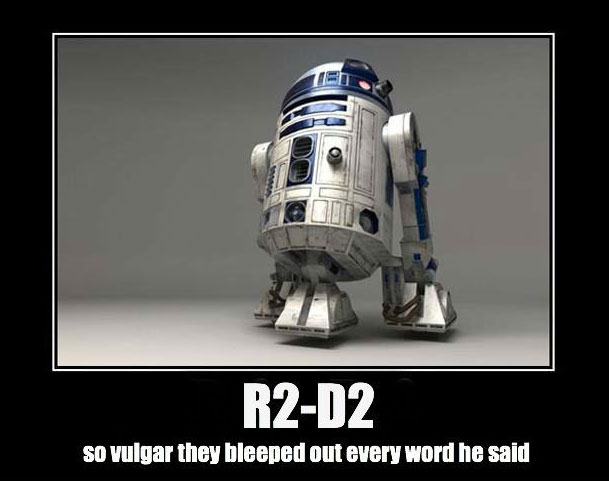r2d2: (250, 58, 458, 339)
